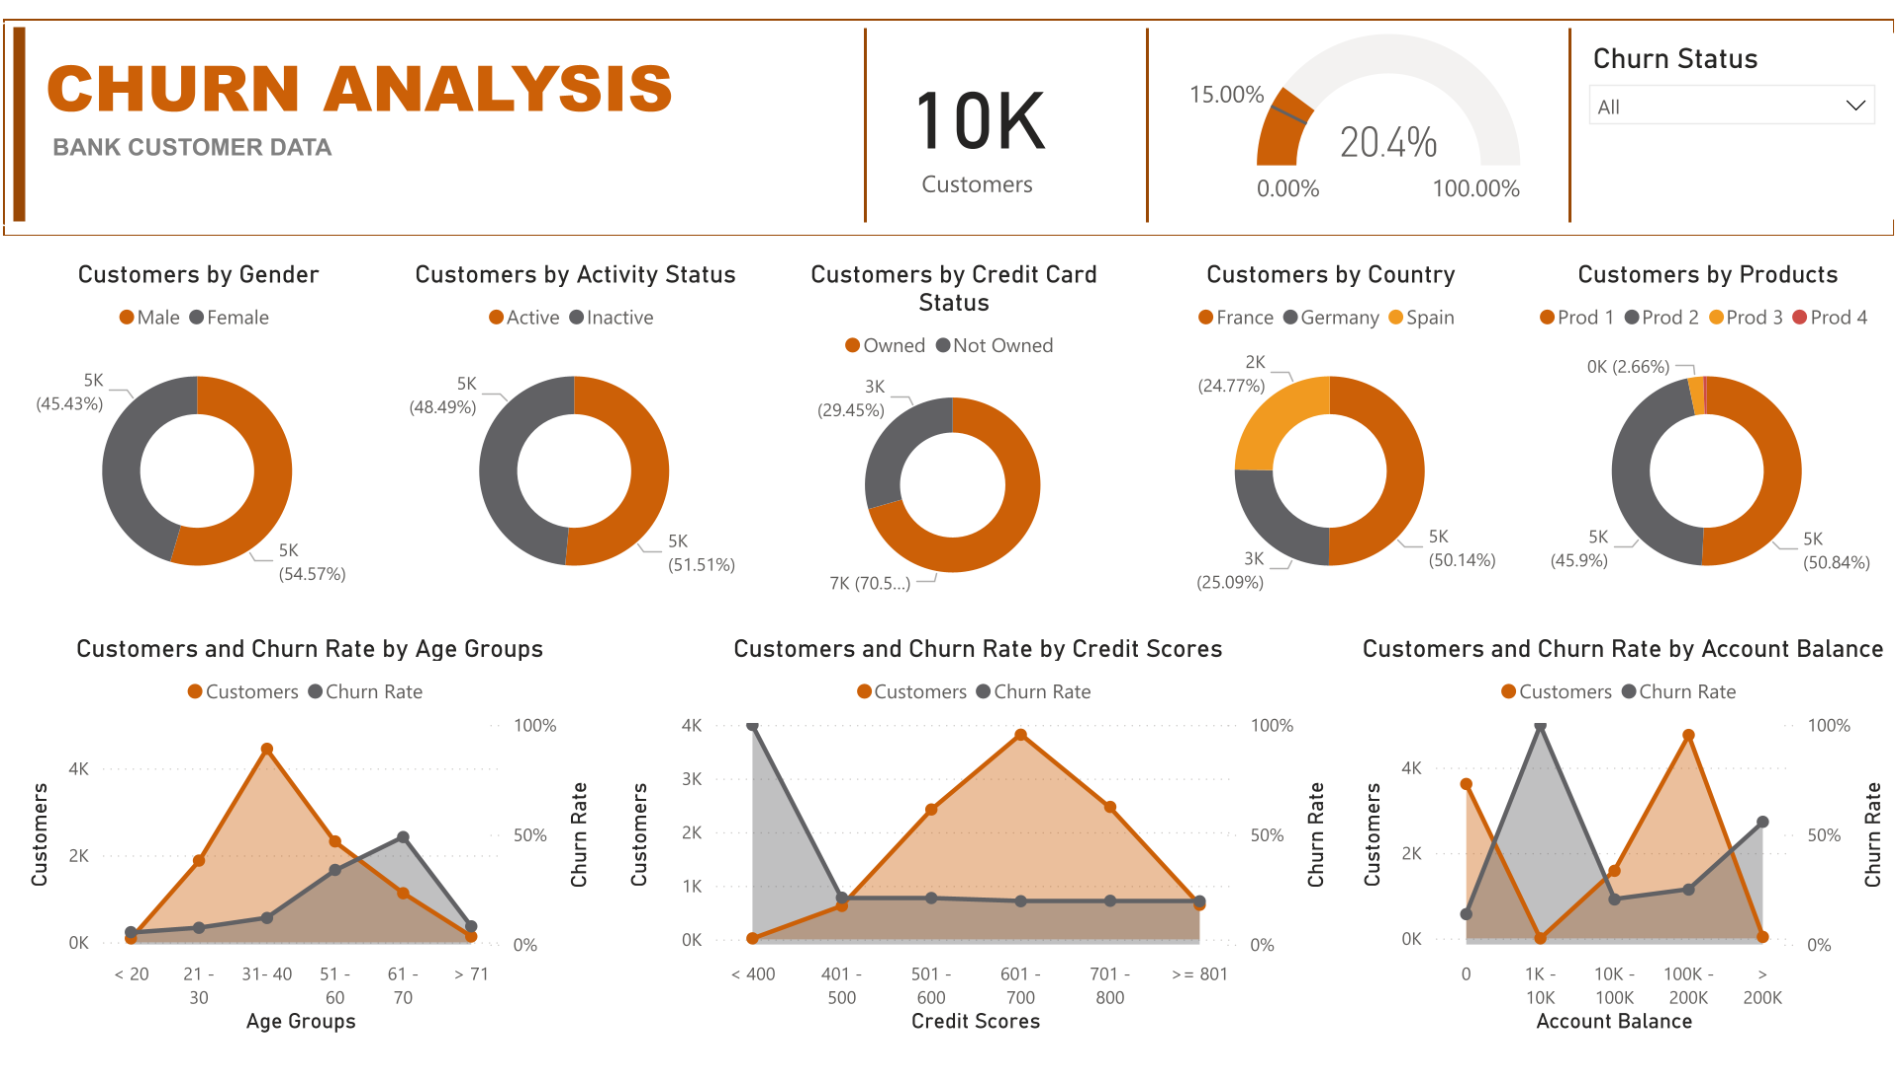

This screenshot's page, from the dashboard's own definition file:
{"tool":"powerbi","page":{"name":"Churn Analysis","canvas":[1280,720],"ordinal":0},"visuals":[{"type":"shape","box":[0,5,1280,152.5],"z":0},{"type":"card","fields":{"Values":["Customer Data.Number of customers"]},"box":[570.8,12,176.2,136.2],"z":1000},{"type":"donutChart","title":"Customers by Gender","fields":{"Category":["Customer Data.Gender"],"Y":["Customer Data.Number of customers"]},"box":[11,166.7,245,245],"z":2000},{"type":"donutChart","title":"Customers by Activity Status","fields":{"Y":["Customer Data.Number of customers"],"Category":["Customer Data.Activity Status"]},"box":[265.4,166.7,245,245],"z":3000},{"type":"donutChart","title":"Customers by Credit Card Status","fields":{"Category":["Customer Data.Credit Card Status"],"Y":["Customer Data.Number of customers"]},"box":[519.7,166.7,245,245],"z":4000},{"type":"donutChart","title":"Customers by Country","fields":{"Y":["Customer Data.Number of customers"],"Category":["Customer Data.Country"]},"box":[774.1,166.7,245,245],"z":5000},{"type":"donutChart","title":"Customers by Products","fields":{"Y":["Customer Data.Number of customers"],"Category":["Customer Data.Products"]},"box":[1028.5,166.7,245,245],"z":6000},{"type":"areaChart","fields":{"Category":["Age Groups.Age Groups"],"Y":["Customer Data.Customers"],"Y2":["Customer Data.Churn Rate"]},"box":[11.2,420,395,281.2],"z":7000},{"type":"areaChart","fields":{"Category":["Credit Score Groups.Credit Scores"],"Y":["Customer Data.Customers"],"Y2":["Customer Data.Churn Rate"]},"box":[415,420,487.5,281.2],"z":8000},{"type":"areaChart","fields":{"Category":["Acct Balance Groups.Account Balance"],"Y":["Customer Data.Customers"],"Y2":["Customer Data.Churn Rate"]},"box":[908.8,420,368.8,281.2],"z":9000},{"type":"slicer","fields":{"Values":["Customer Data.Churn Status"]},"box":[1058.3,14.5,218.8,131.2],"z":10000},{"type":"gauge","fields":{"MinValue":["Min(Customer Data.Min Churn Rate)"],"MaxValue":["Max(Customer Data.Max Churn Rate)"],"TargetValue":["Min(Customer Data.Target Churn Rate)"],"Y":["Customer Data.Churn Rate"]},"box":[764.5,9.8,293.8,136.2],"z":11000},{"type":"textbox","box":[22.5,15,455,86.2],"z":12000},{"type":"textbox","box":[27.5,77.5,300,38.8],"z":13000},{"type":"shape","box":[571.2,11.4,25,137.5],"z":13001},{"type":"shape","box":[761.2,11.4,25,137.5],"z":13002},{"type":"shape","box":[1046.2,11.4,25,137.5],"z":13003},{"type":"shape","box":[0,10,27,137.5],"z":13004}]}

Visuals, with their boxes in screenshot pixels (x1, y1, x2, y2), scaled from the page's 1280x720 canvas onto the 1899x1079 screenshot:
shape: <box>0,7,1898,236</box>
card - Customer Data.Number of customers: <box>847,18,1108,222</box>
"Customers by Gender" donutChart: <box>16,250,380,617</box>
"Customers by Activity Status" donutChart: <box>394,250,757,617</box>
"Customers by Credit Card Status" donutChart: <box>771,250,1135,617</box>
"Customers by Country" donutChart: <box>1148,250,1512,617</box>
"Customers by Products" donutChart: <box>1526,250,1889,617</box>
areaChart - Age Groups.Age Groups x Customer Data.Customers: <box>17,629,603,1051</box>
areaChart - Credit Score Groups.Credit Scores x Customer Data.Customers: <box>616,629,1339,1051</box>
areaChart - Acct Balance Groups.Account Balance x Customer Data.Customers: <box>1348,629,1895,1051</box>
slicer - Customer Data.Churn Status: <box>1570,22,1895,218</box>
gauge - Min(Customer Data.Min Churn Rate) x Max(Customer Data.Max Churn Rate): <box>1134,15,1570,219</box>
textbox: <box>33,22,708,152</box>
textbox: <box>41,116,486,174</box>
shape: <box>847,17,885,223</box>
shape: <box>1129,17,1166,223</box>
shape: <box>1552,17,1589,223</box>
shape: <box>0,15,40,221</box>
